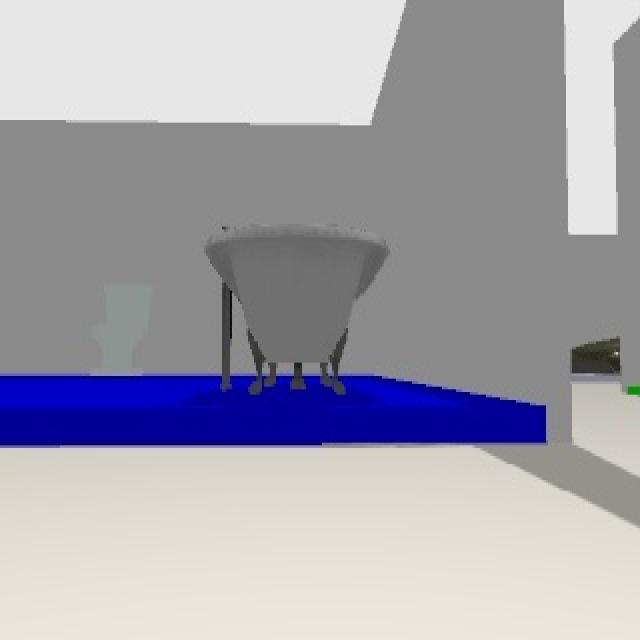bathtub: (202, 224, 392, 392)
